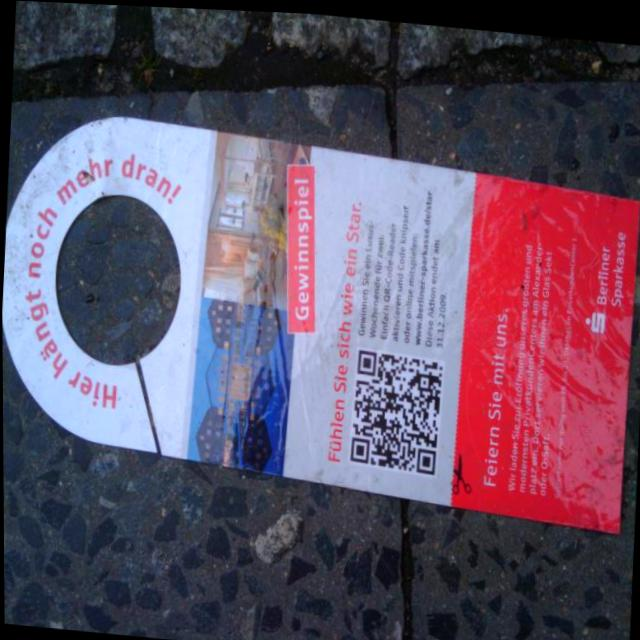qrcode: (350, 347, 444, 471)
